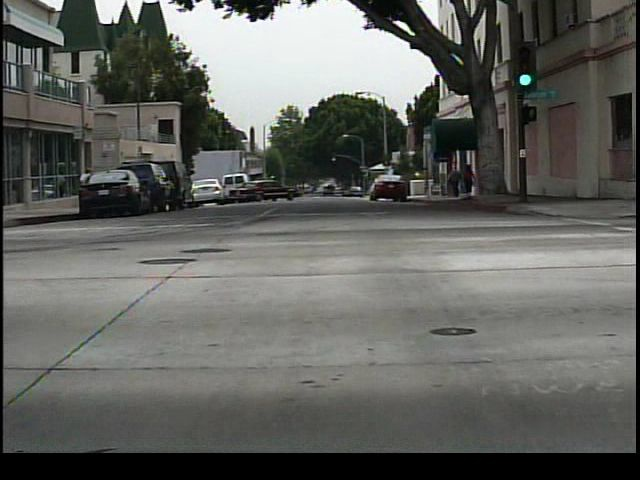person: (76, 161, 102, 208), (445, 168, 465, 203), (462, 159, 479, 197)
